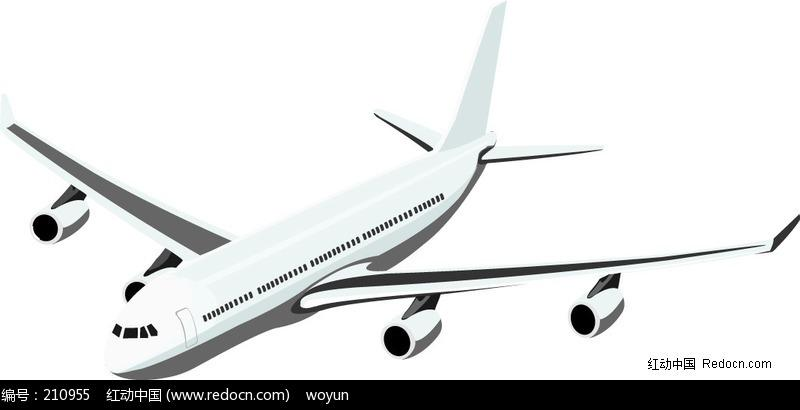airplane: (1, 1, 800, 376)
